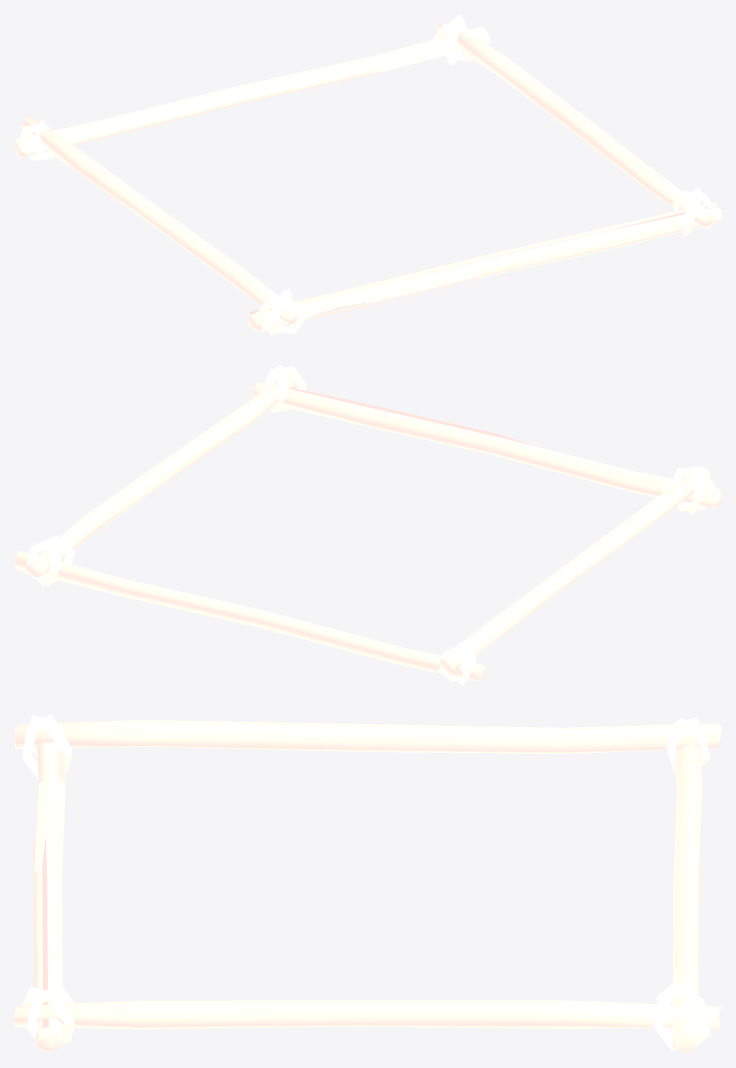
File: WoodSticks.gltf
The picture shows the model from 3 angles, top to bottom: view 1: azimuth 30°, elevation 25°; view 2: azimuth 150°, elevation 25°; view 3: azimuth 270°, elevation 25°; orthographic projection. The views are drawn at different scales.
Parts seen in each view (by area): view 1: PF_WoodSticks; view 2: PF_WoodSticks; view 3: PF_WoodSticks.
Part boxes in pixels (box(x1,y1,x2,y2)): PF_WoodSticks: box(14, 14, 721, 335); PF_WoodSticks: box(14, 364, 721, 685); PF_WoodSticks: box(14, 714, 721, 1053).
Bounding box in the file's own units: 116 × 11.44 × 112.
